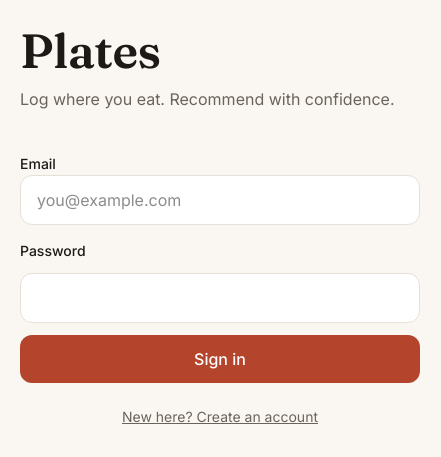
LoginPage (password mode) › shows a generic message for bad credentials (does not reveal which part was wrong)
Type "a@b.co" into the field labelled "Email".
click(220, 200); type("a@b.co")  # box x1=20 y1=175 x2=420 y2=225
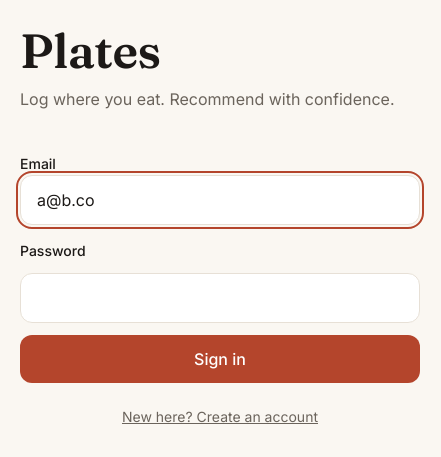
Type "wrongwrong" into the password field labelled "Password".
click(220, 298); type("wrongwrong")  # box x1=20 y1=273 x2=420 y2=323
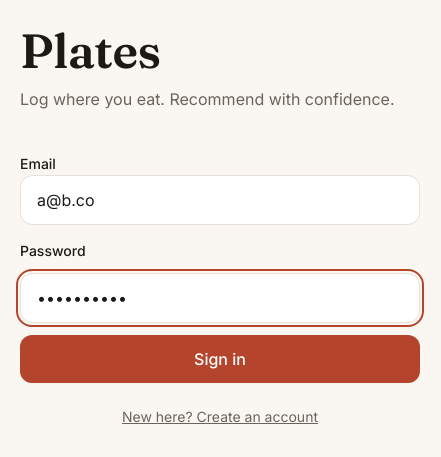
Click the button "Sign in".
click(220, 359)  # box x1=20 y1=335 x2=420 y2=383
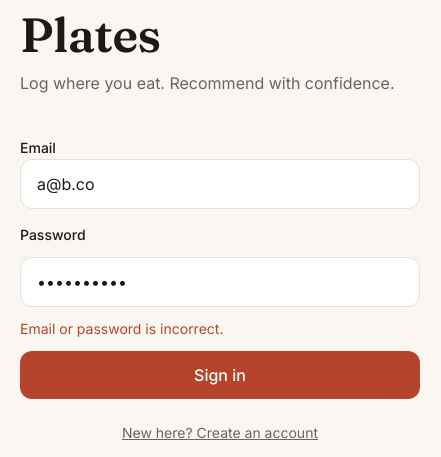
Expected: the message reads "Email or password is incorrect.", x1=20 y1=320 x2=223 y2=337
